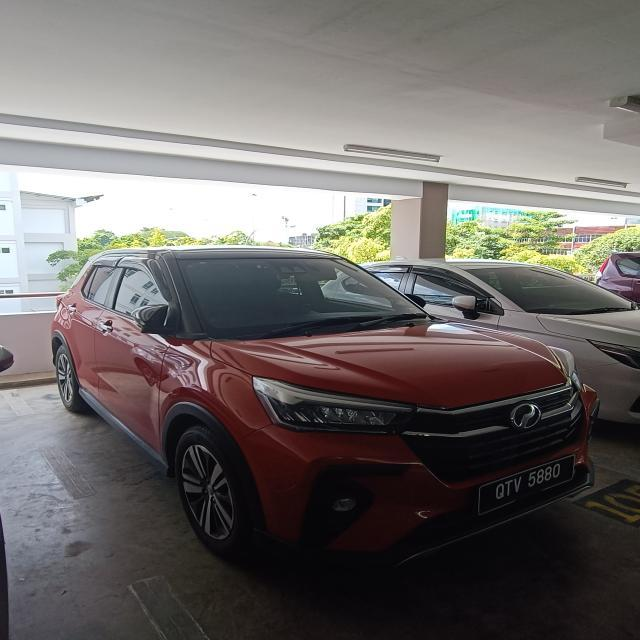PeroduaAtiva: (49, 243, 600, 568)
